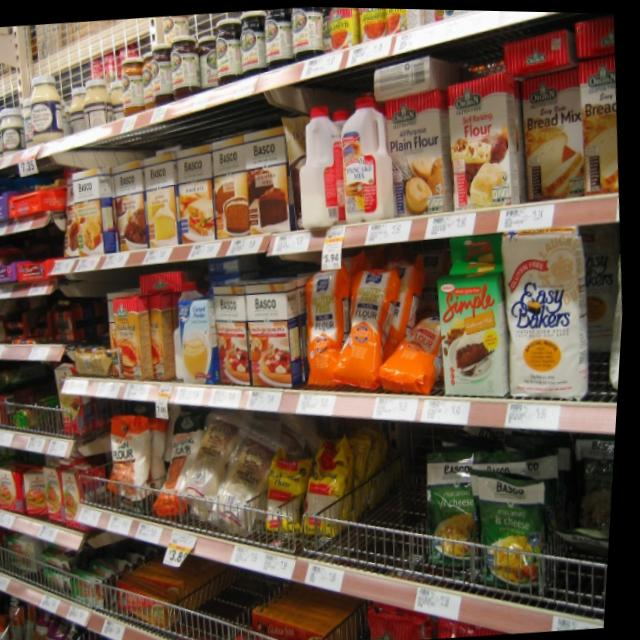q187: (328, 86, 407, 230), (283, 98, 357, 240)
